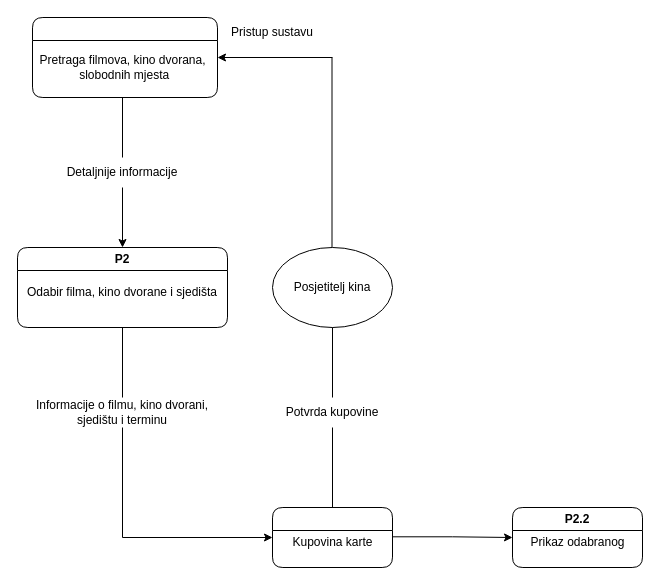
This 660x585 diagram has some shape labels left out. Each missing label, with the box of its shape:
P1: (32, 16, 218, 98)
P2.1: (272, 506, 392, 568)
